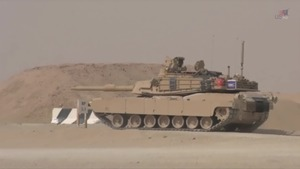abrams: (71, 59, 275, 132)
